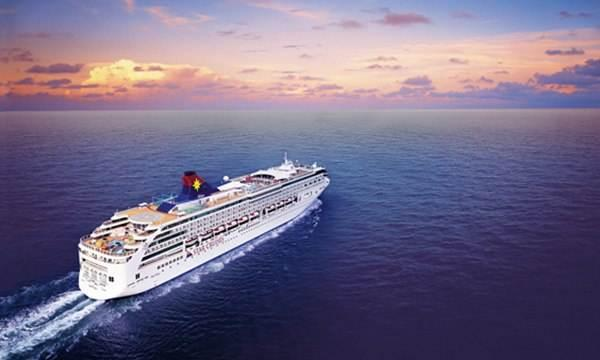youlun: (79, 152, 330, 302)
